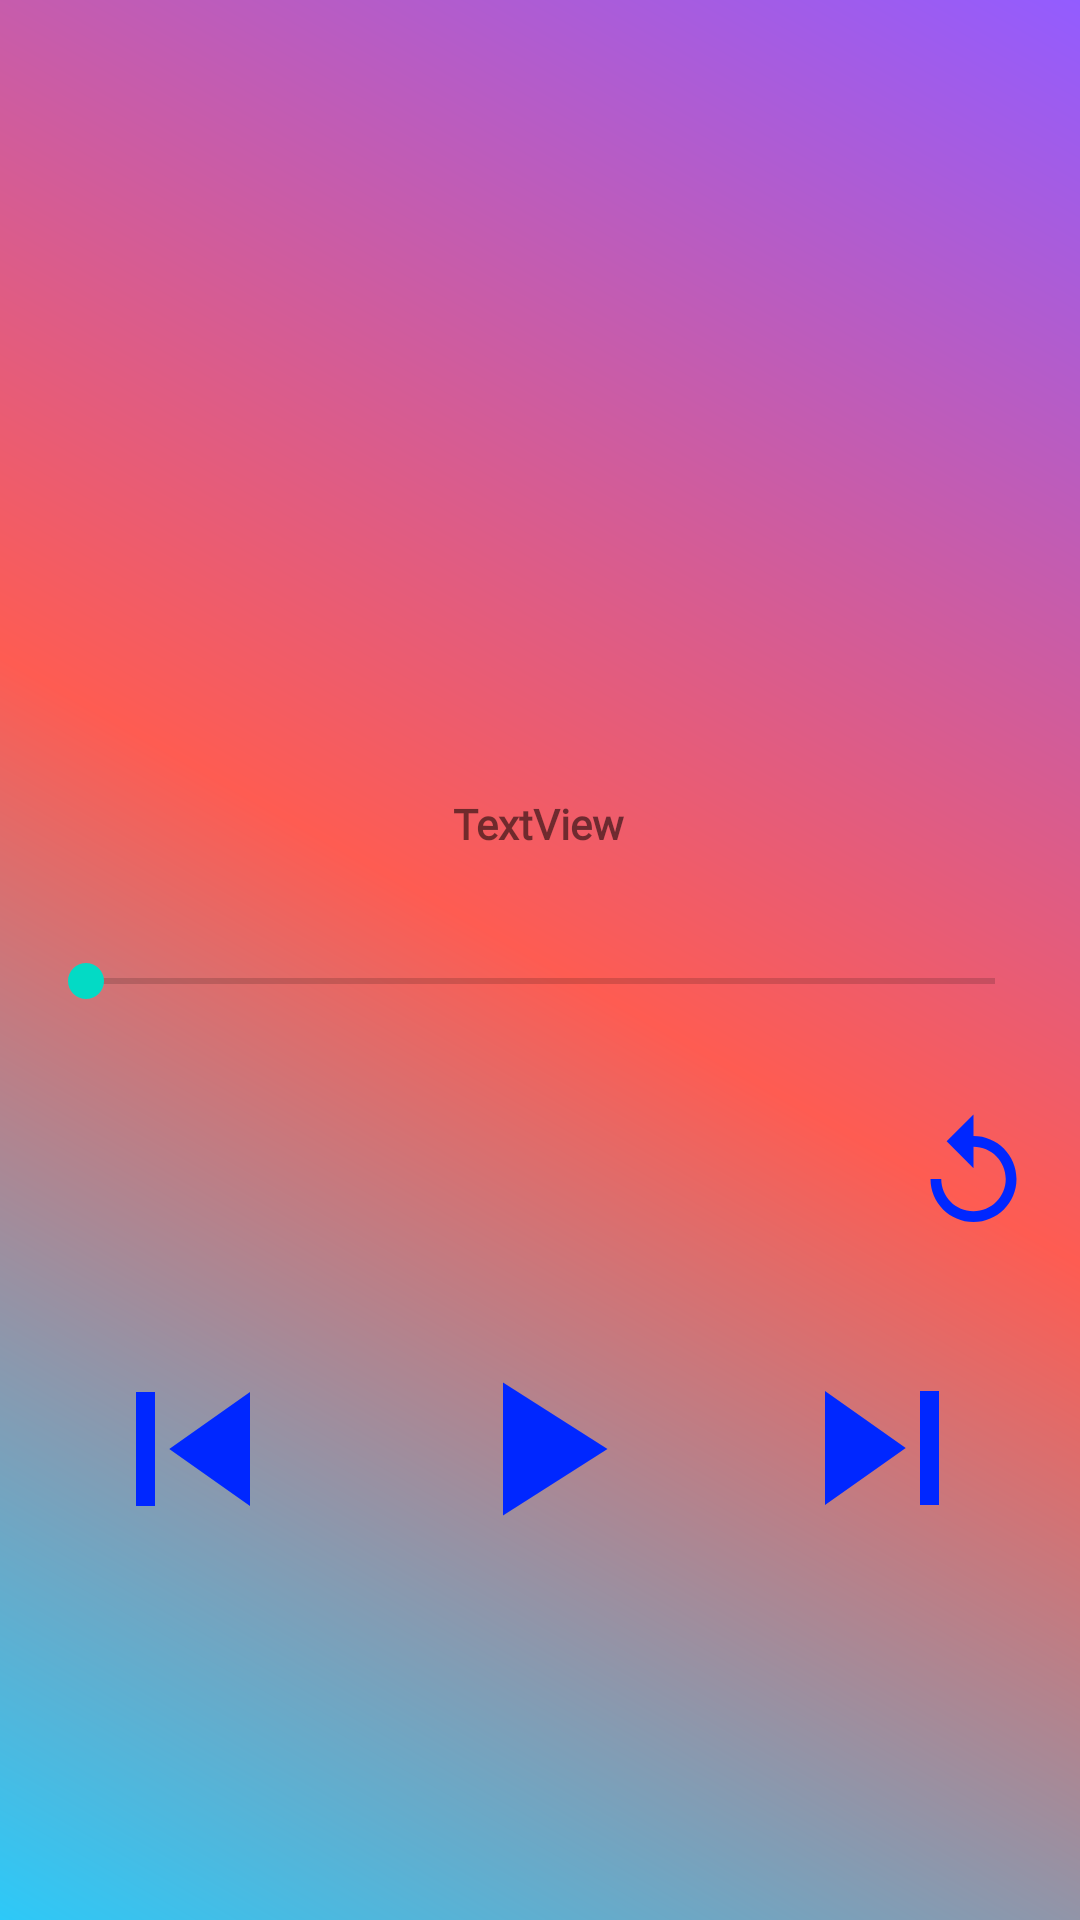

Where icons sit on this 1080*1920 app screen, as (x1, y1, x2, y2):
play arrow: (482, 1335, 674, 1516)
replay: (930, 1114, 1017, 1222)
skip previous: (136, 1335, 326, 1506)
